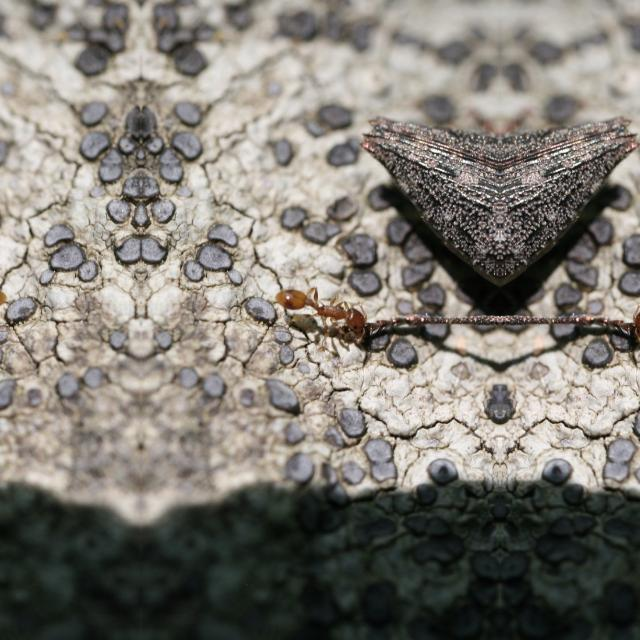Temnothorax: (273, 266, 377, 352)
